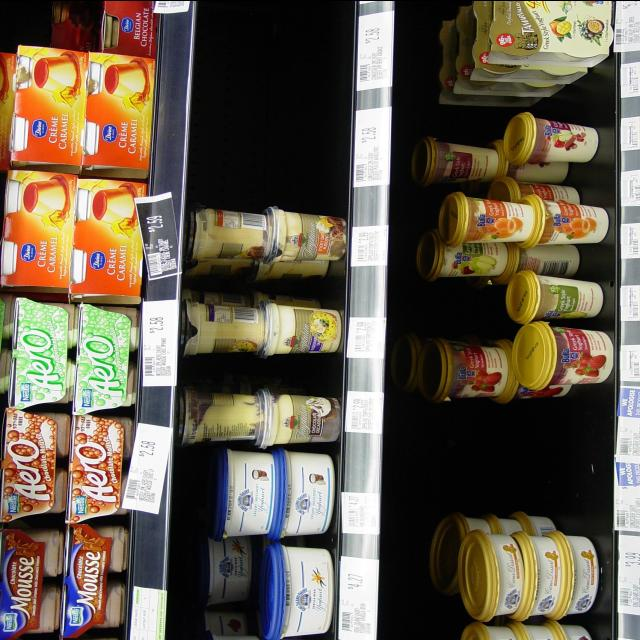empty_space: (213, 0, 353, 192), (443, 403, 605, 504)
